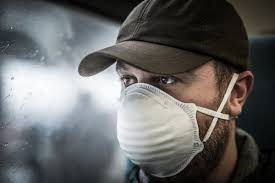mask: (99, 39, 224, 173)
